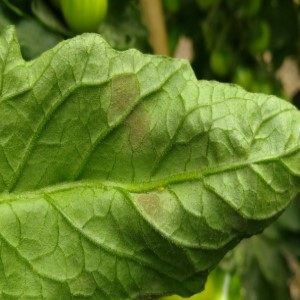cladosporium: (106, 75, 137, 117), (127, 111, 151, 149), (135, 194, 165, 218)
